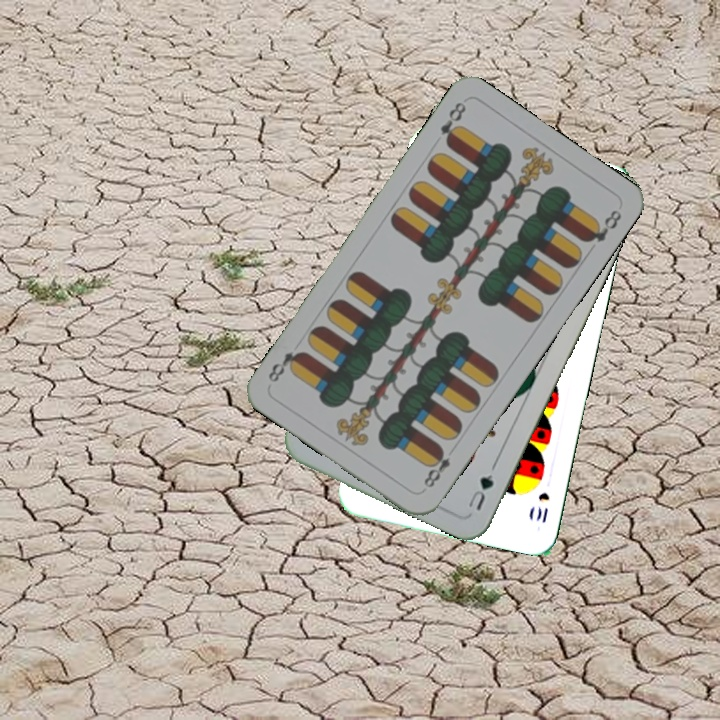E8: (436, 97, 469, 149), (419, 443, 453, 491)
GU: (464, 460, 499, 513)
S10: (532, 488, 552, 526)
